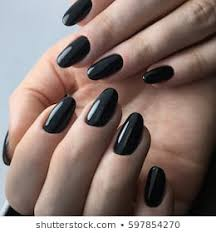nail: (112, 111, 145, 154), (42, 96, 76, 135), (85, 88, 118, 127), (55, 35, 90, 68), (86, 54, 123, 81), (143, 166, 166, 207), (59, 1, 92, 25), (141, 64, 174, 85), (2, 130, 13, 166)
